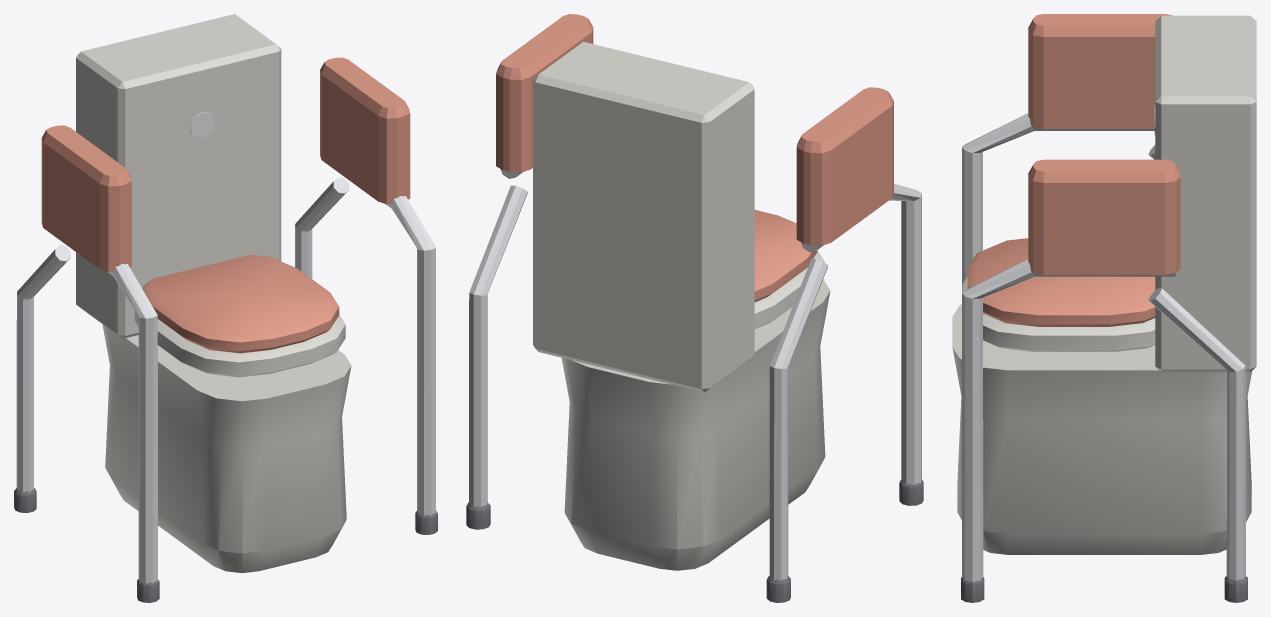
File: care-home-and-day-room-raised-toilet-frame-e552396a__35758.glb
The picture shows the model from 3 angles, left to right: view 1: azimuth 30°, elevation 25°; view 2: azimuth 150°, elevation 25°; view 3: azimuth 270°, elevation 25°; orthographic projection. The views are drawn at different scales.
Visible parts, largest first — view 1: raised-toilet-frame; view 2: raised-toilet-frame; view 3: raised-toilet-frame.
Part boxes in pixels (x1,y1,x2,y2): raised-toilet-frame: [14, 14, 437, 602]; raised-toilet-frame: [466, 14, 923, 602]; raised-toilet-frame: [952, 14, 1256, 602].
Bounding box in the file's own units: 0.755 × 1.02 × 0.6.
